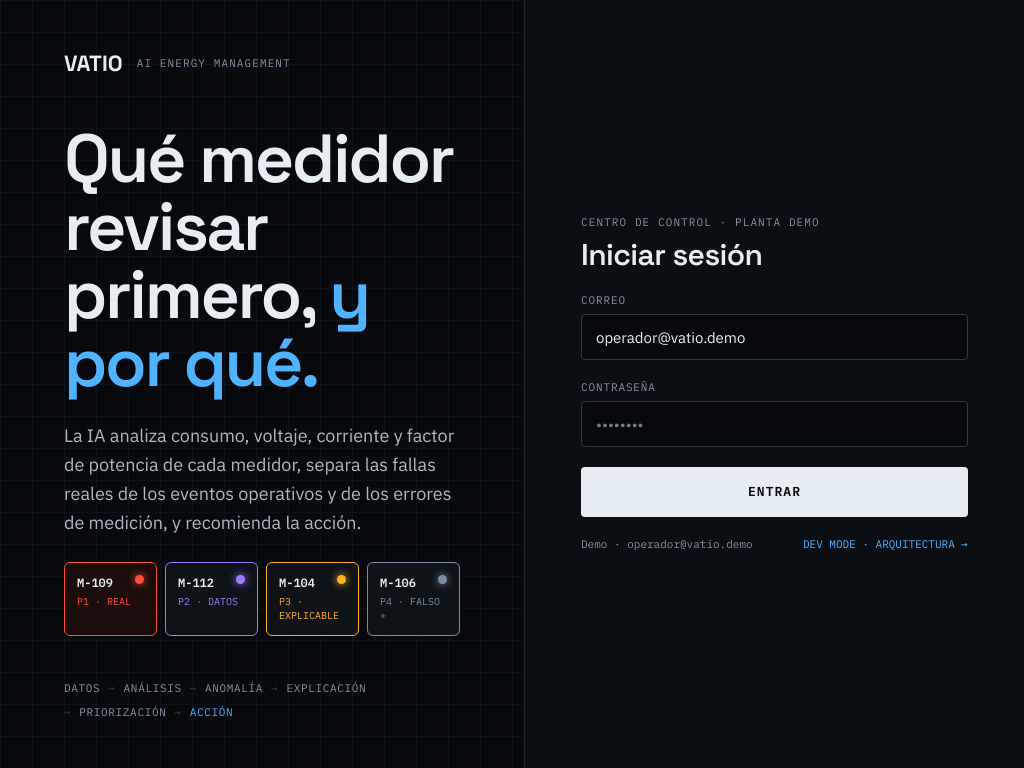
Scenario: authentication › shows an error on wrong credentials
Step 1. Type "bad" into the password field labelled "CONTRASEÑA" → (774, 424), box [581,401,968,447]
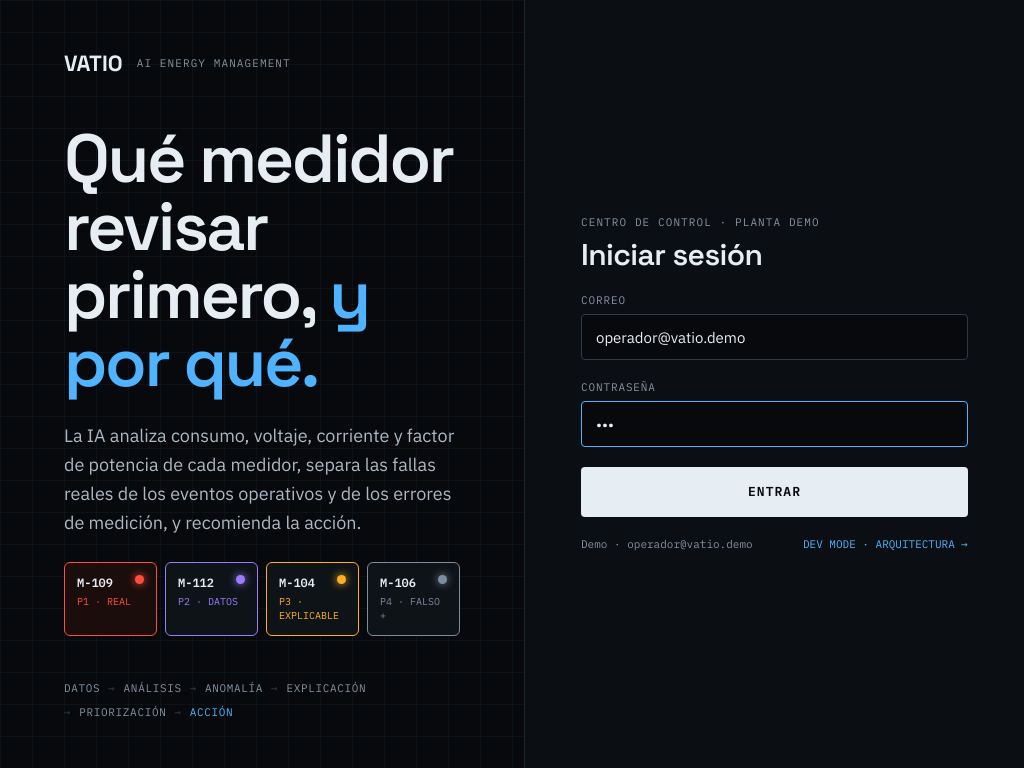
Step 2. Click the button "ENTRAR" → (774, 492), box [581,467,968,517]
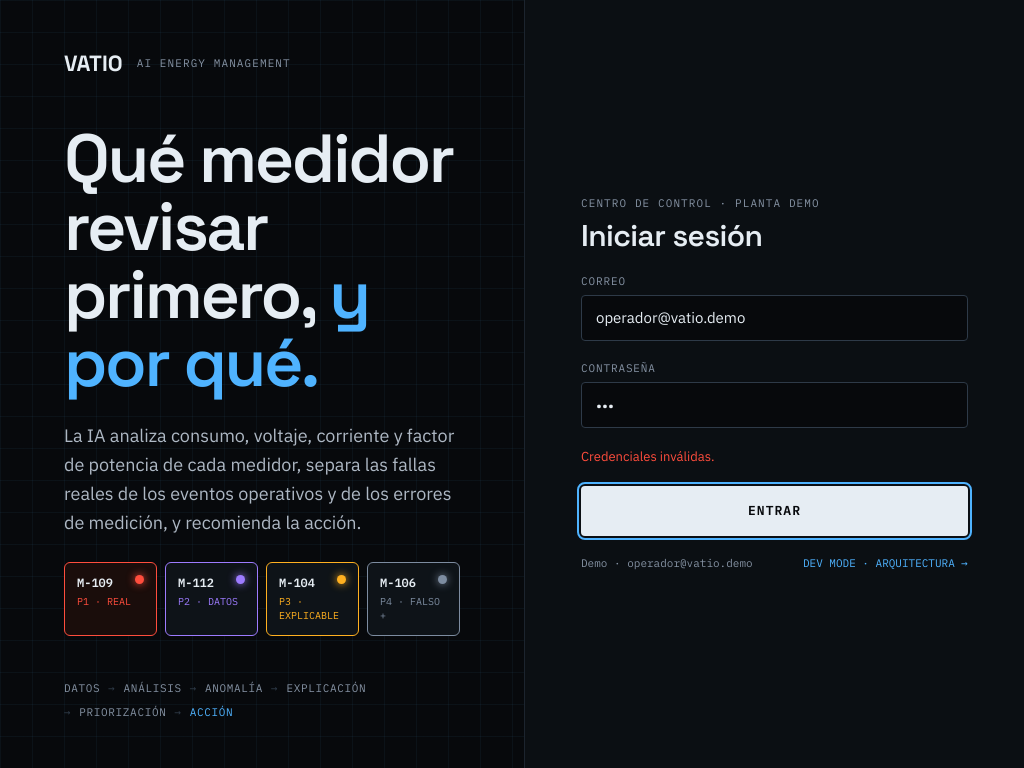
Check: the message shows "Credenciales inválidas", box [581,448,715,465]
